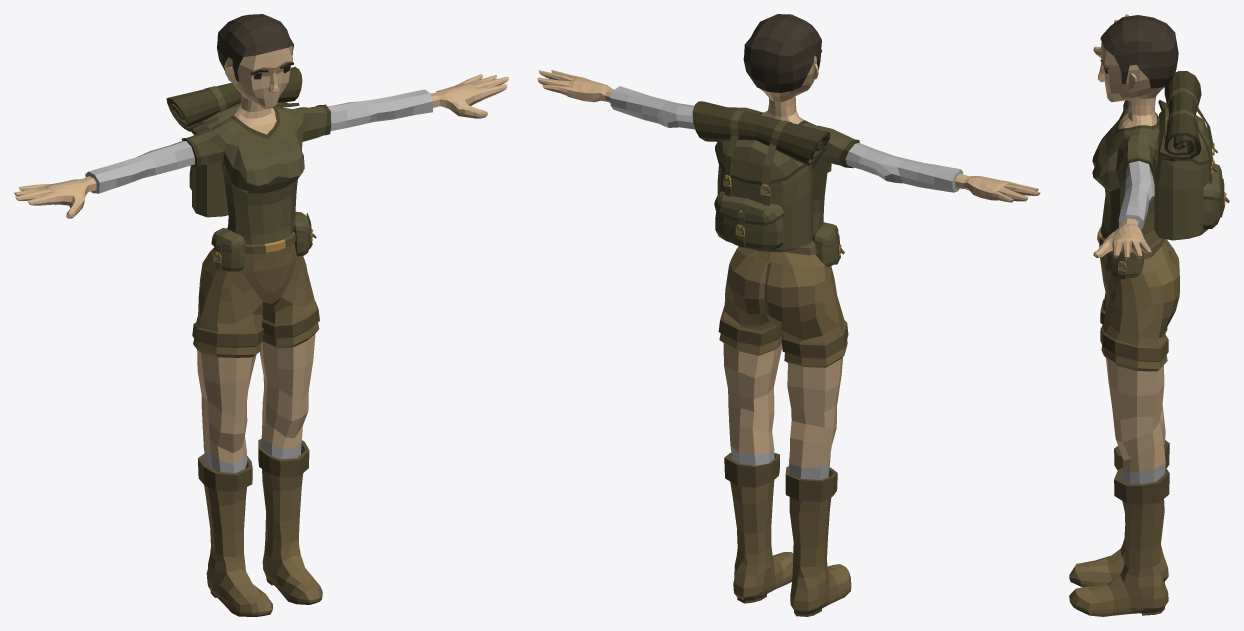
The picture shows the model from 3 angles, left to right: view 1: azimuth 30°, elevation 25°; view 2: azimuth 150°, elevation 25°; view 3: azimuth 270°, elevation 25°; orthographic projection.
Visible parts, largest first — view 1: Adventurer_Body, Adventurer_Legs, Adventurer_Feet, Adventurer_Head; view 2: Adventurer_Body, Adventurer_Legs, Adventurer_Feet, Adventurer_Head; view 3: Adventurer_Body, Adventurer_Legs, Adventurer_Feet, Adventurer_Head.
Part boxes in pixels (x1,y1,x2,y2): Adventurer_Body: (14,66,508,253); Adventurer_Legs: (192,211,319,473); Adventurer_Feet: (198,439,322,616); Adventurer_Head: (217,14,293,111); Adventurer_Body: (537,70,1040,255); Adventurer_Legs: (718,222,848,479); Adventurer_Feet: (724,452,851,616); Adventurer_Head: (743,14,822,116); Adventurer_Body: (1092,14,1229,259); Adventurer_Legs: (1099,239,1179,484); Adventurer_Feet: (1069,440,1169,616); Adventurer_Head: (1098,15,1178,115).
Size of the model in its own units: 1.65 by 1.83 by 0.4604.
